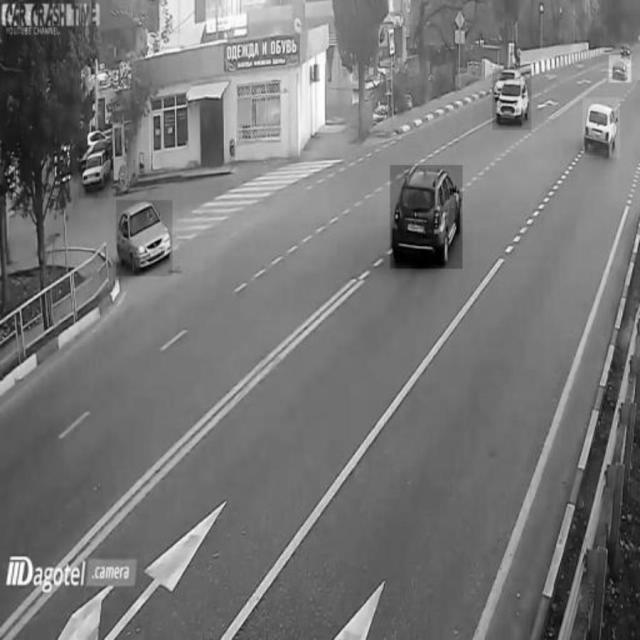vehicle: (390, 166, 462, 269), (117, 200, 173, 276), (493, 69, 531, 130), (583, 98, 620, 158), (79, 148, 109, 199), (609, 56, 631, 83)
